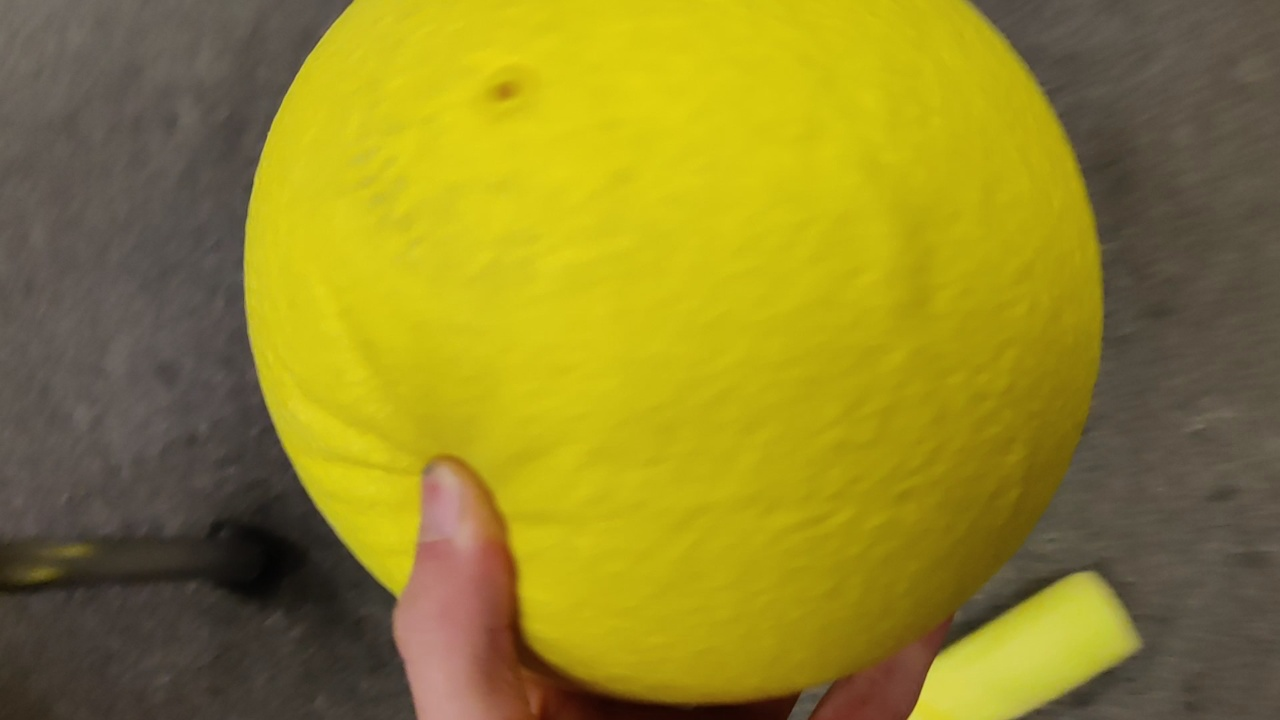Ball: (241, 2, 1109, 689)
